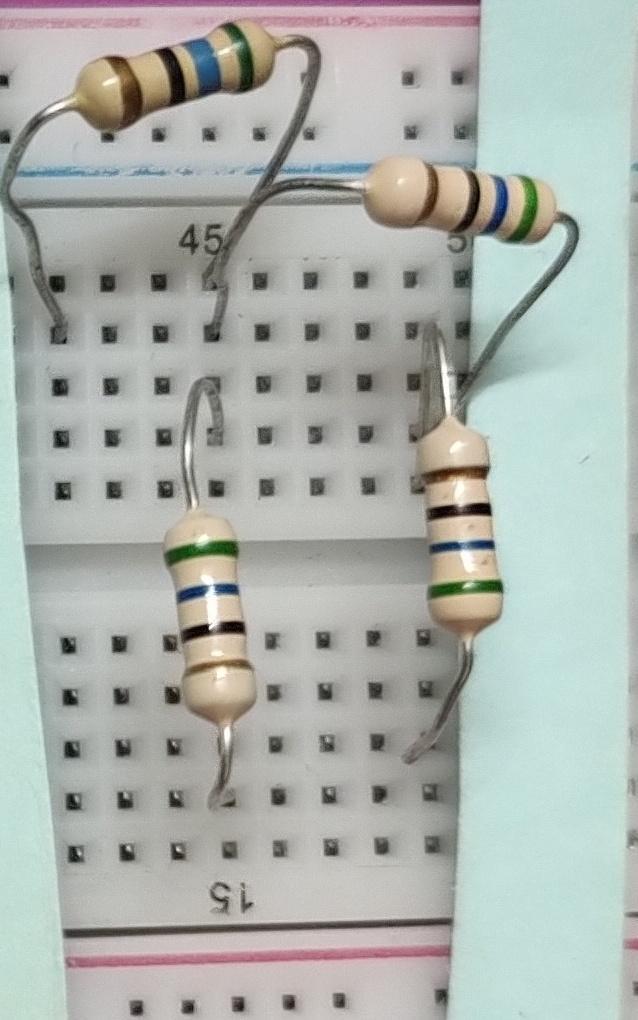resistor: (65, 0, 313, 145), (407, 405, 527, 656), (148, 503, 258, 739), (349, 143, 579, 252)
